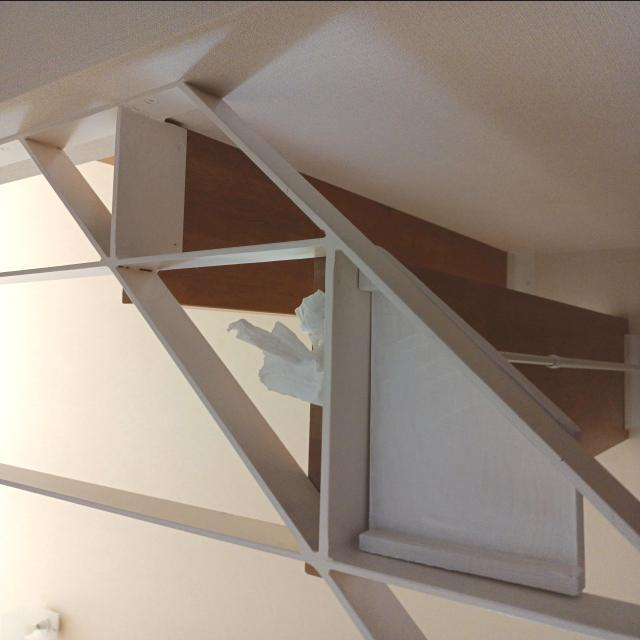Paper: (216, 279, 334, 419)
